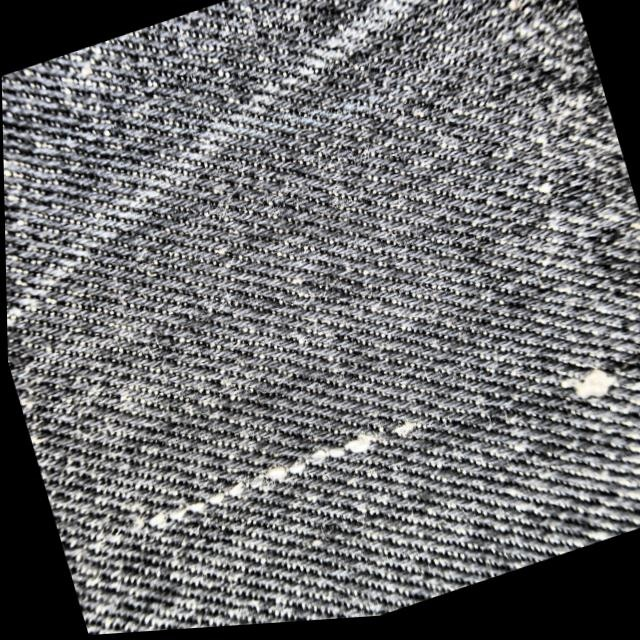Hole: (134, 430, 404, 532)
